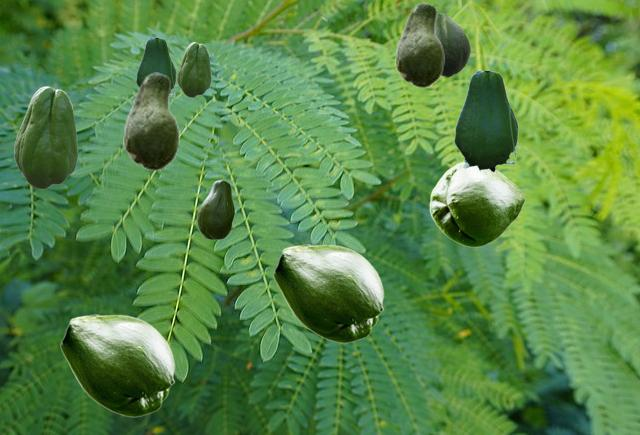sayote: (60, 314, 174, 416), (273, 244, 383, 342), (429, 161, 524, 246), (454, 71, 519, 173), (14, 86, 77, 188), (123, 72, 178, 170), (395, 2, 443, 87), (136, 38, 176, 97), (197, 180, 233, 238), (437, 13, 469, 76), (177, 42, 210, 96)
